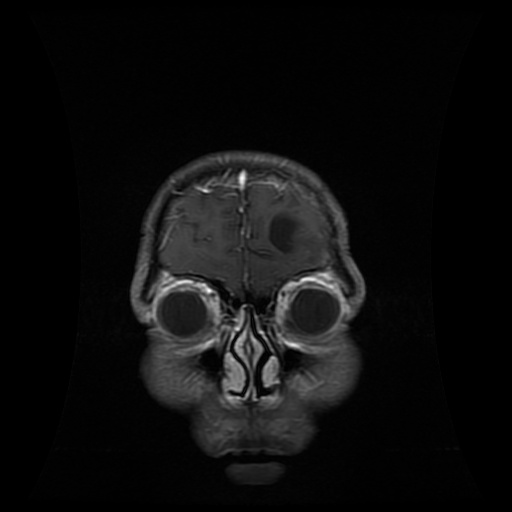glioma: (268, 213, 303, 251)
